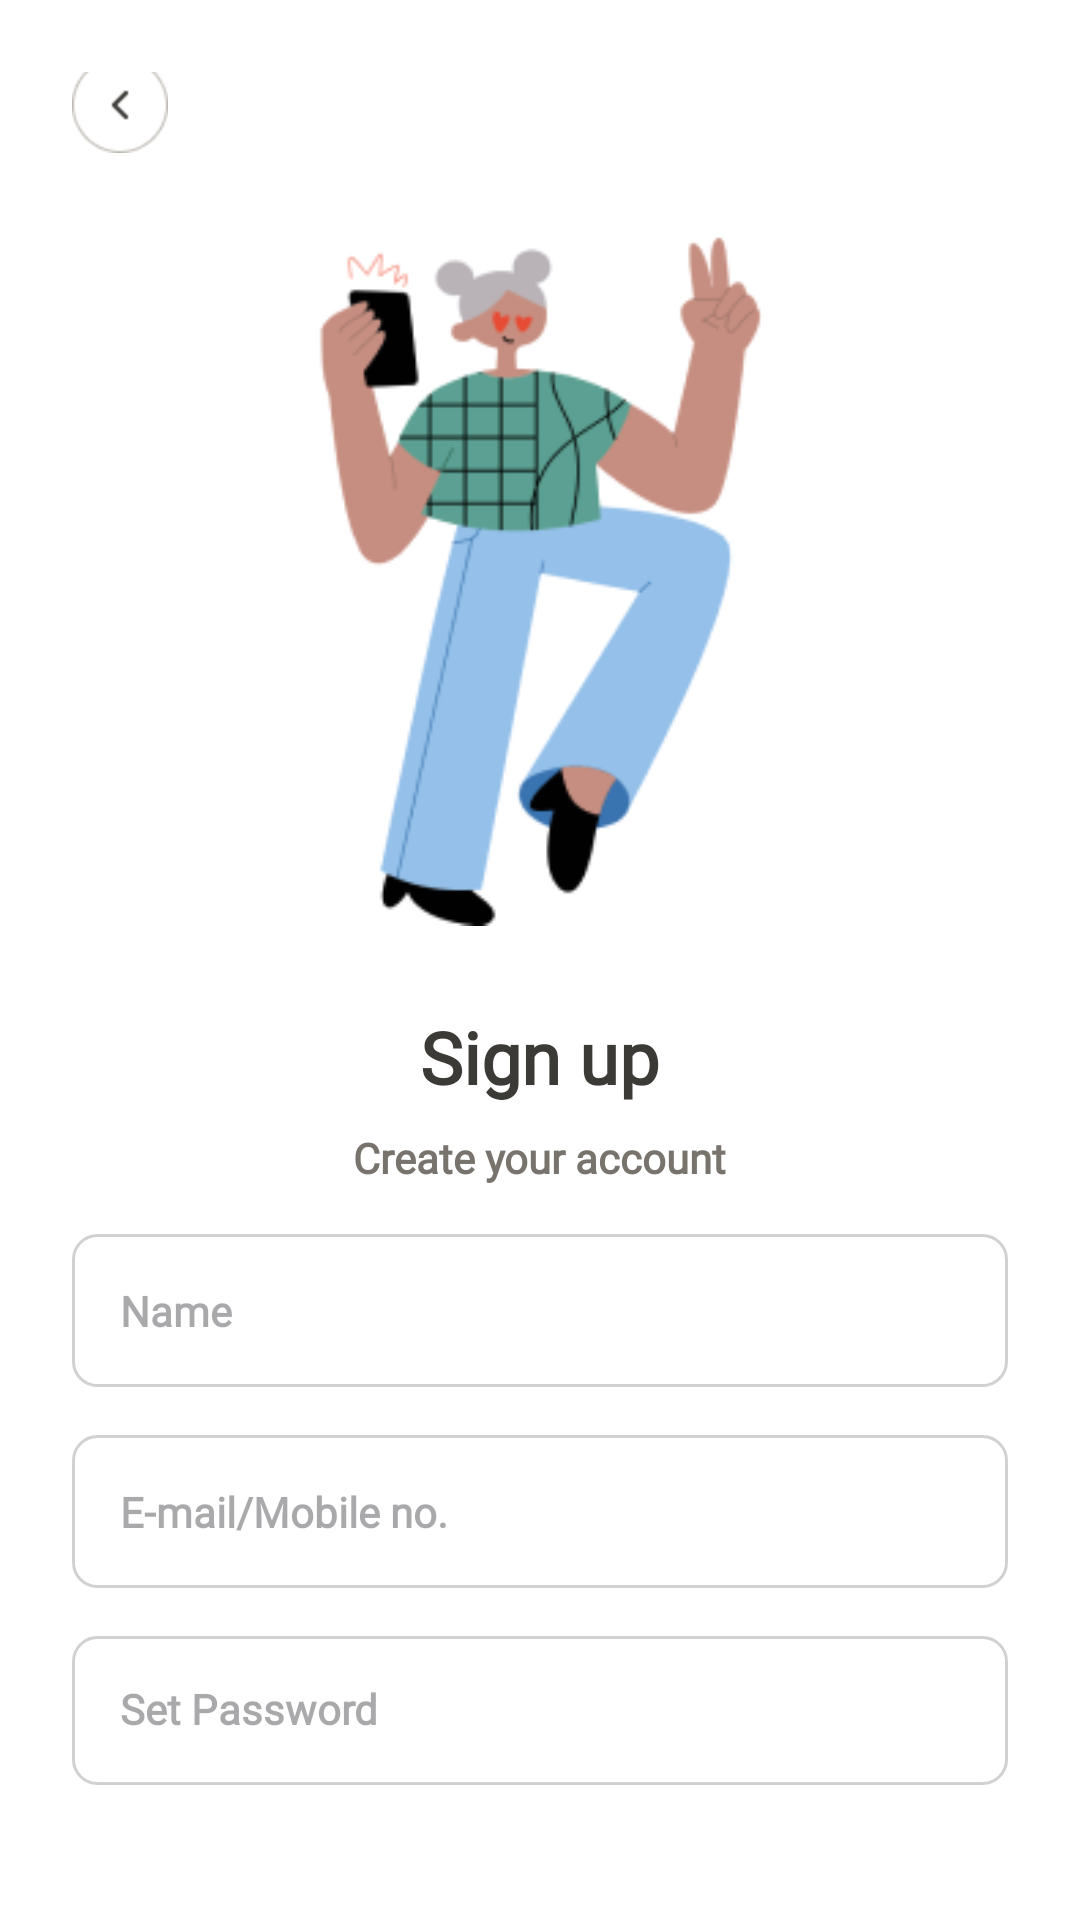

Icon click points for this 1080w x 1920h phone screenshot, format point (x, y):
back: point (120, 112)
